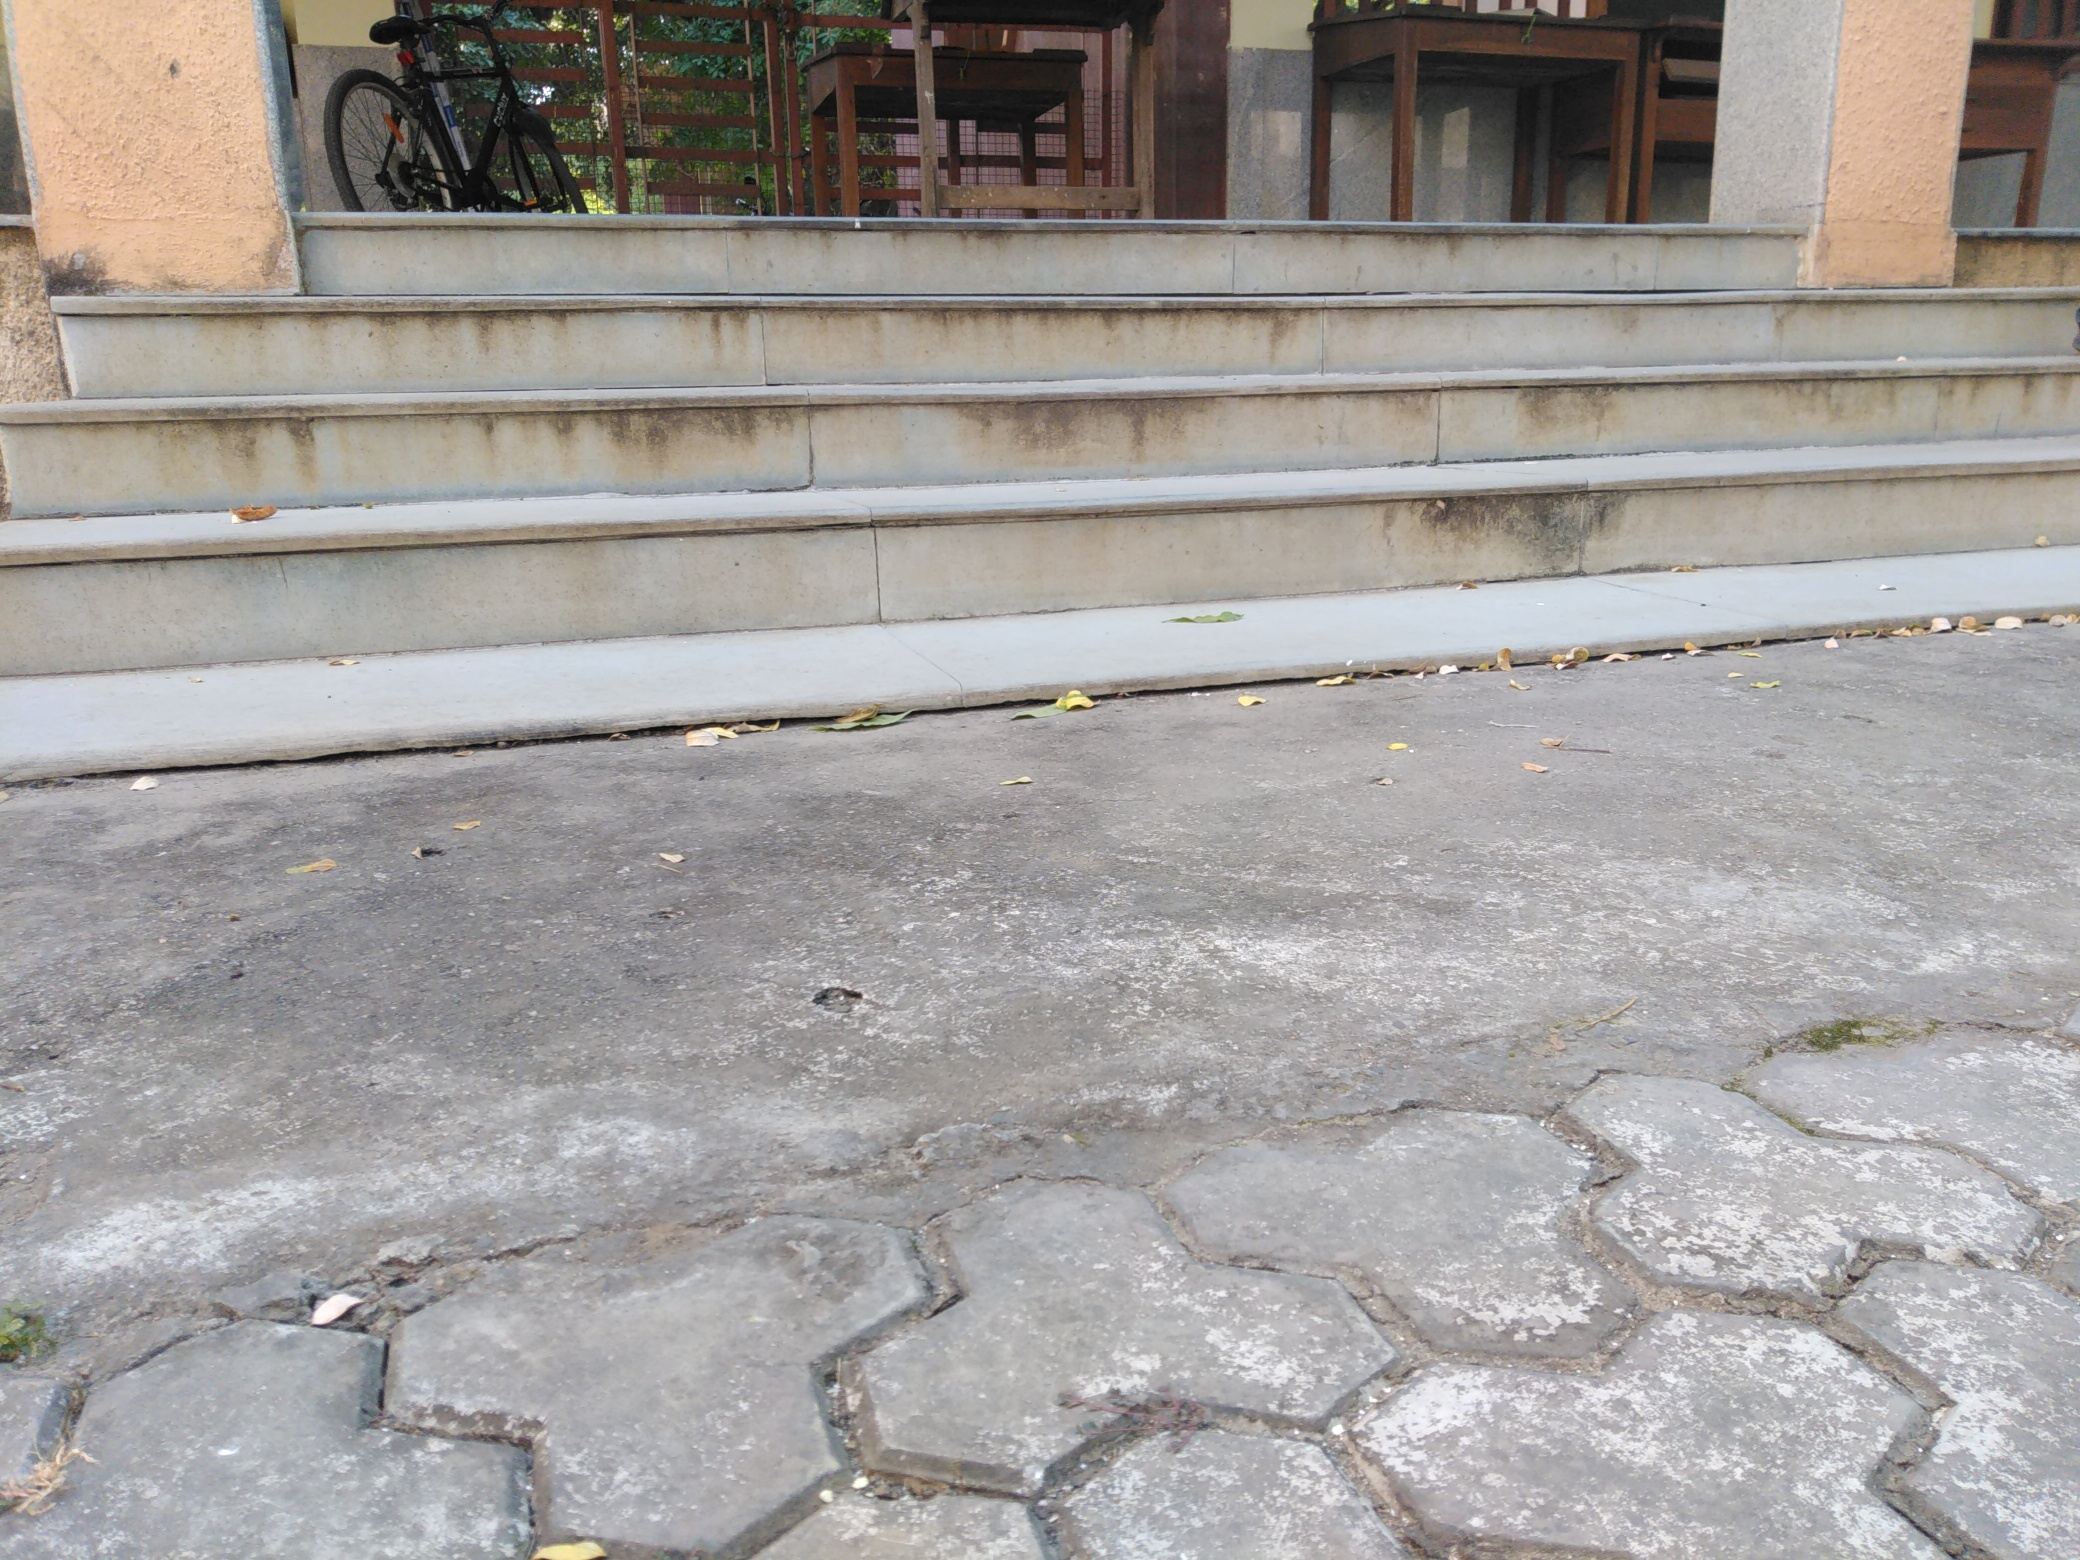stairs_up: (15, 211, 2080, 621)
